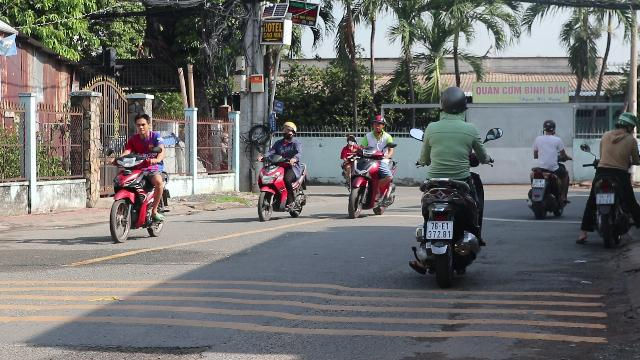helmet: (438, 86, 468, 118), (612, 112, 636, 134), (370, 115, 386, 133), (282, 121, 296, 139)
licenseplate: (426, 221, 452, 238), (596, 193, 614, 203)
motorcyclist: (408, 84, 492, 284), (105, 112, 171, 244), (578, 112, 640, 246), (345, 113, 403, 225), (254, 120, 310, 222)
nohelmet: (133, 114, 151, 134)
